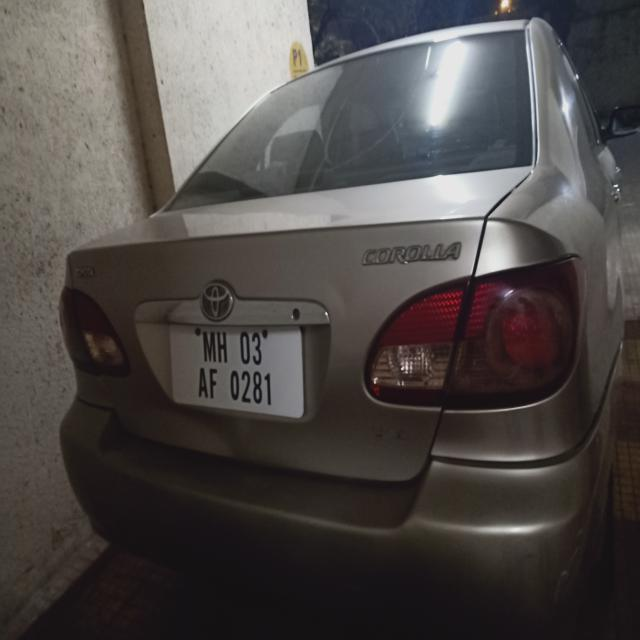Number-Plate: (176, 331, 300, 411)
